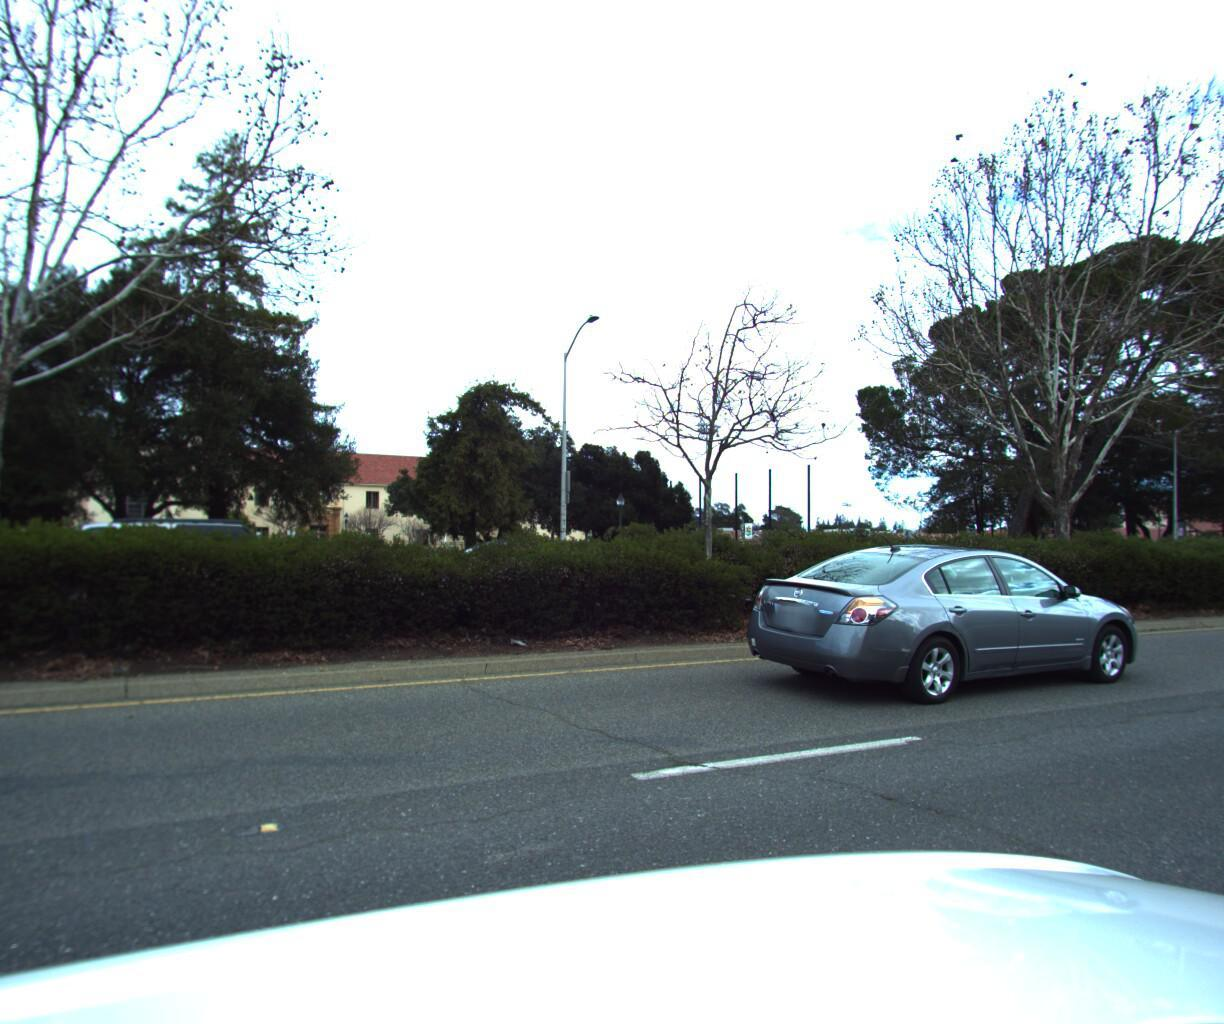car: (725, 542, 1151, 714), (9, 511, 273, 609), (436, 537, 593, 591)
